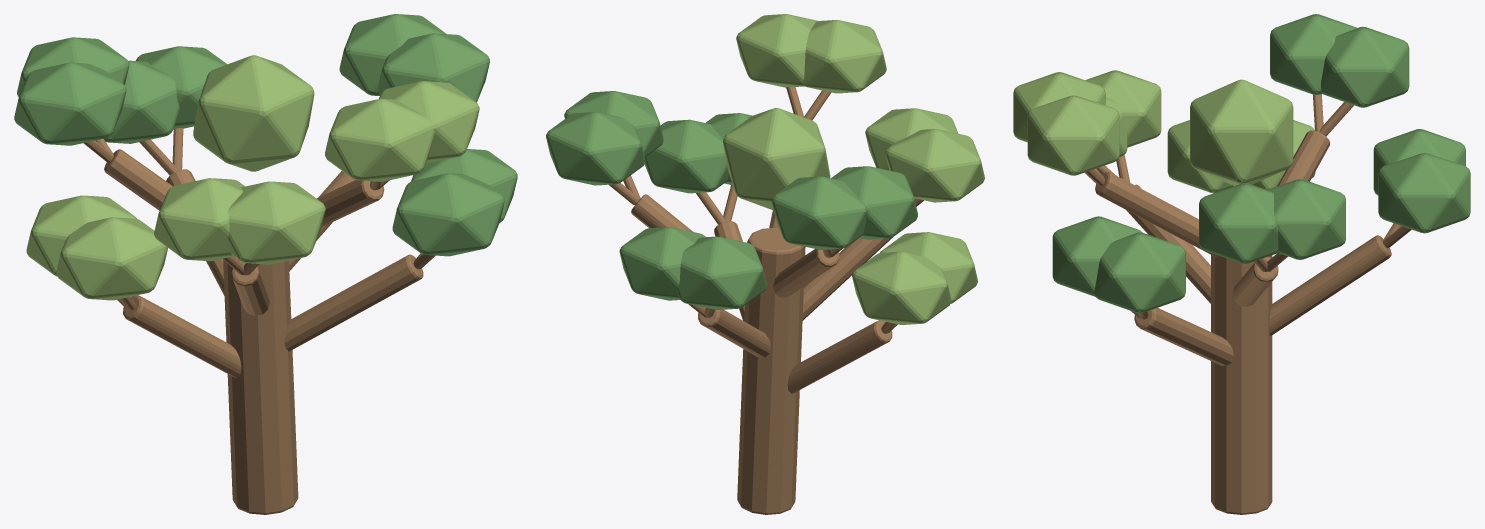
File: prop-elm.glb
3 renders of one model, left to right at view 1: azimuth 30°, elevation 25°; view 2: azimuth 150°, elevation 25°; view 3: azimuth 270°, elevation 25°, orthographic. The views are drawn at different scales.
Visible parts, largest first — view 1: Leaf light, Leaf green, Aged oak; view 2: Leaf light, Leaf green, Aged oak; view 3: Leaf green, Aged oak, Leaf light.
Part boxes in pixels (<box>): Leaf light: <box>26,55,479,300</box>; Leaf green: <box>14,14,517,256</box>; Aged oak: <box>83,128,435,514</box>; Leaf light: <box>723,14,984,324</box>; Leaf green: <box>546,91,917,309</box>; Aged oak: <box>608,87,923,514</box>; Leaf green: <box>1052,14,1470,313</box>; Aged oak: <box>1084,94,1411,514</box>; Leaf light: <box>1013,70,1315,193</box>.
Size of the model in its own units: 3.7 by 3.79 by 3.58.
